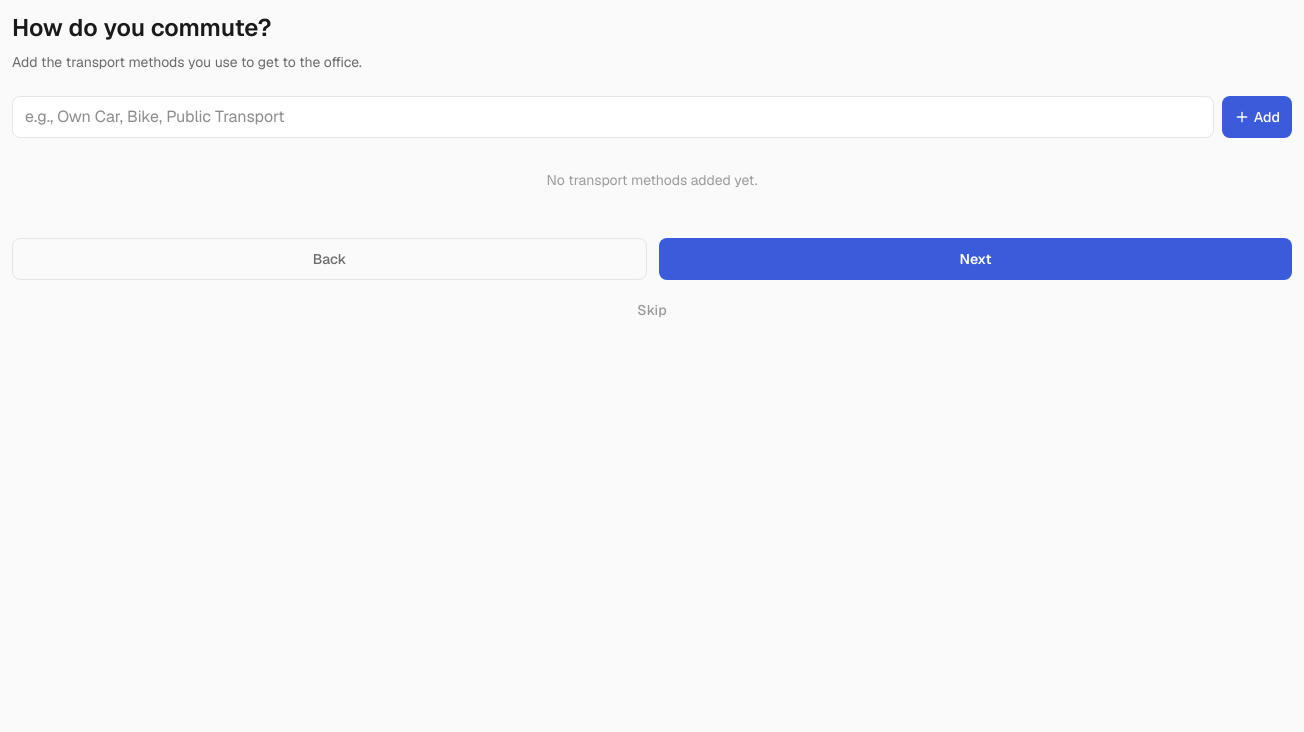
Test case: TransportStep › shows an error toast when the name is empty
Click the button "Add".
click(1257, 117)  # box left=1222, top=96, right=1292, bottom=138
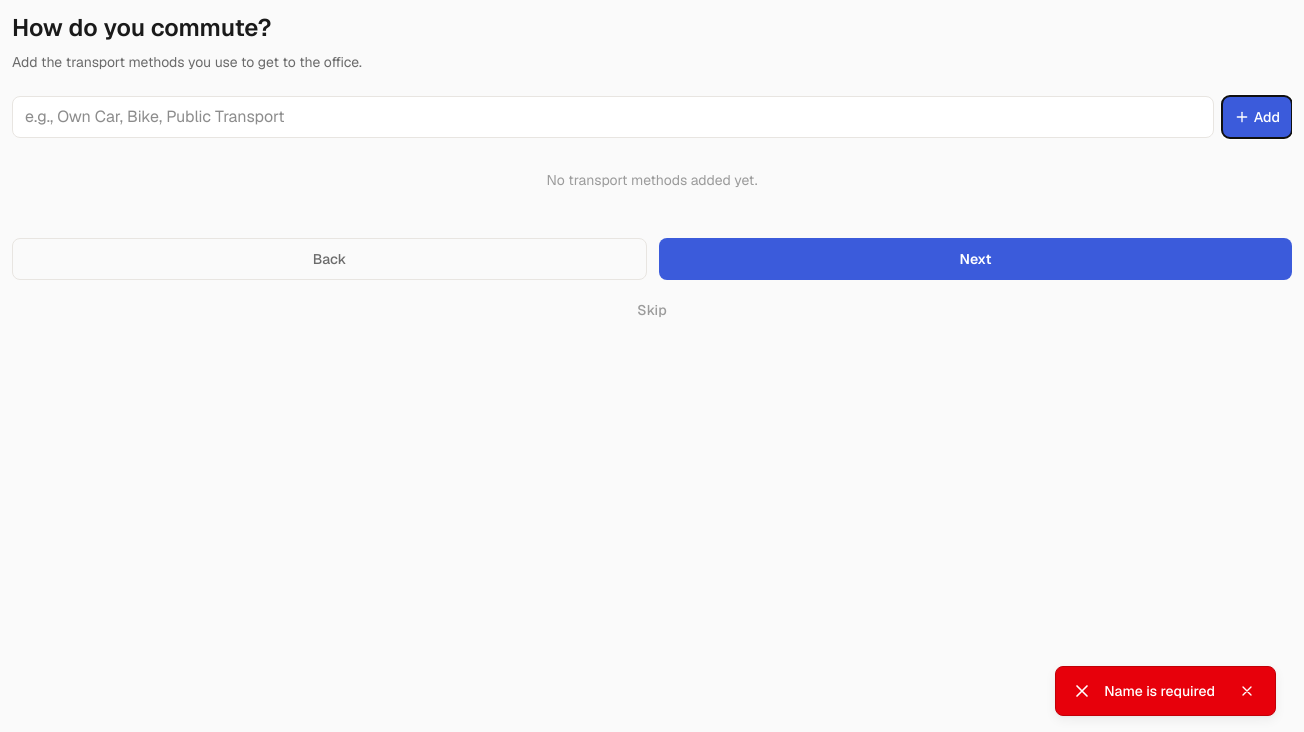
Expected: the message reads "Name is required", left=1104, top=682, right=1215, bottom=700
